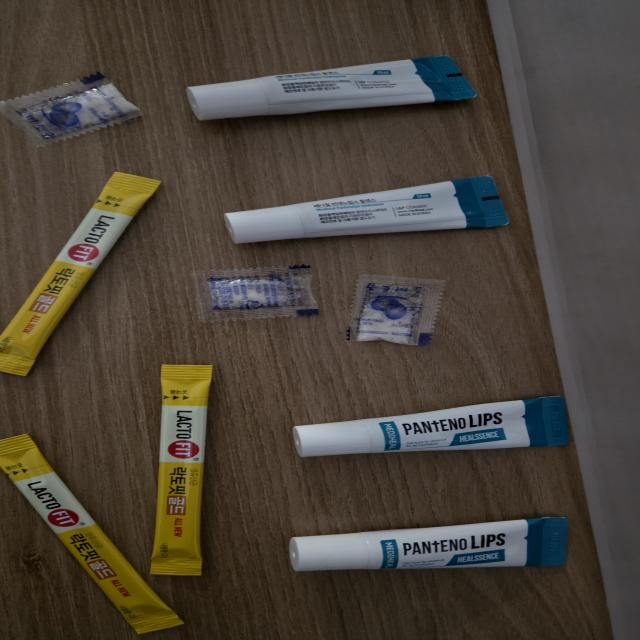lacto: (0, 429, 198, 639), (0, 167, 179, 389), (145, 361, 220, 578)
lip: (181, 48, 484, 129), (220, 174, 516, 252), (283, 394, 582, 468), (284, 511, 582, 583)
salt: (0, 63, 155, 154), (183, 258, 338, 330), (334, 270, 442, 348)
